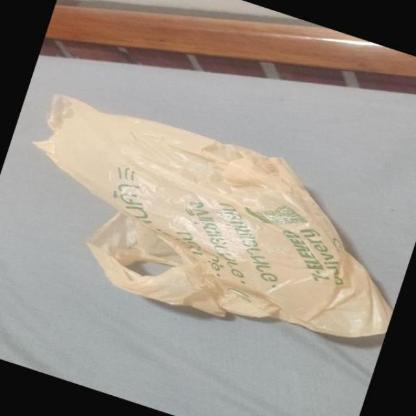Plastic Bag: (31, 95, 402, 339)
